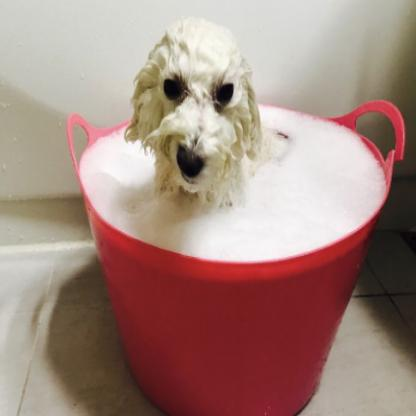dog: (122, 0, 287, 243)
